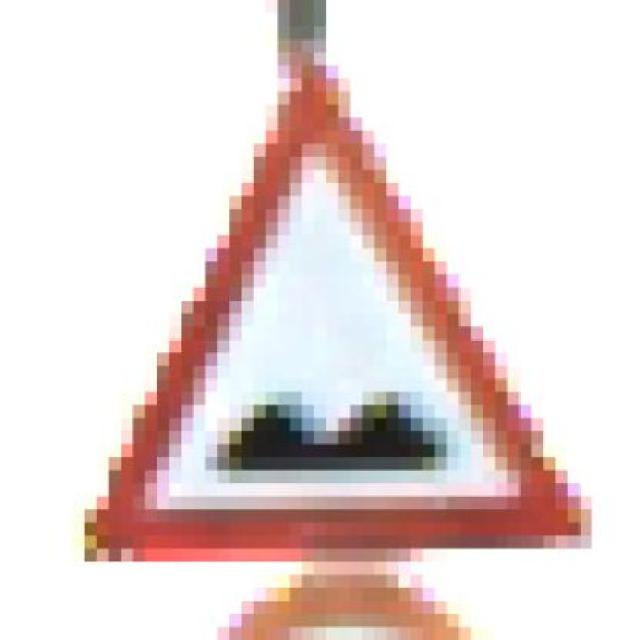Uneven Road: (85, 52, 580, 562)
